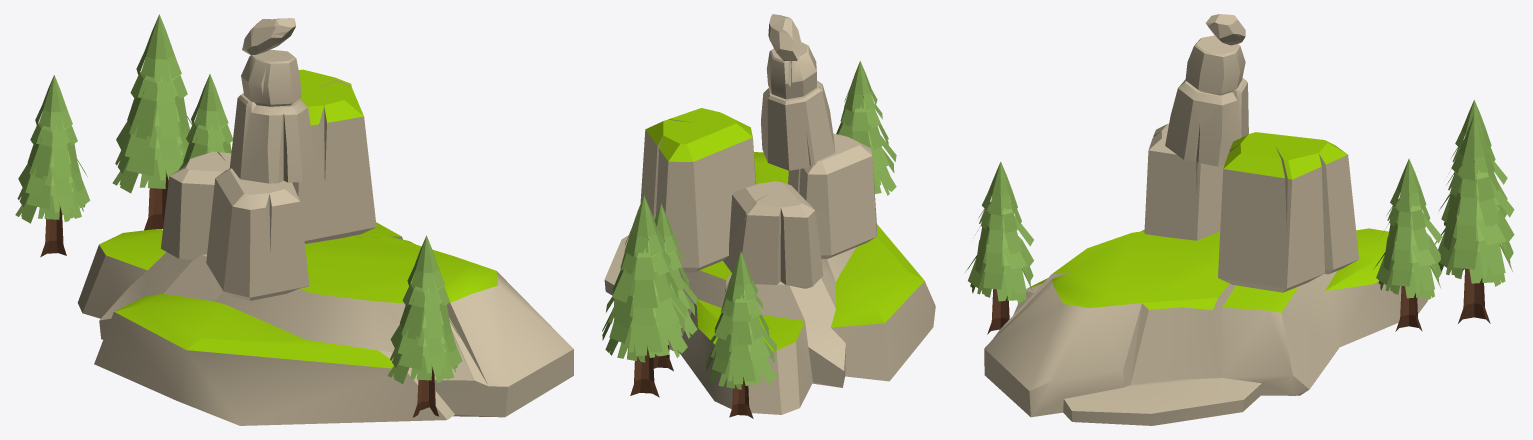
The model's file is Green_1.glb.
The picture shows the model from 3 angles, left to right: view 1: azimuth 30°, elevation 25°; view 2: azimuth 150°, elevation 25°; view 3: azimuth 270°, elevation 25°; orthographic projection. The views are drawn at different scales.
Parts seen in each view (by area): view 1: polySurface12196; view 2: polySurface12196; view 3: polySurface12196.
Part boxes in pixels (x1,y1,x2,y2): polySurface12196: [15, 14, 573, 425]; polySurface12196: [602, 14, 935, 418]; polySurface12196: [965, 14, 1514, 425].
Bounding box in the file's own units: 8.08 × 7.18 × 11.36.
